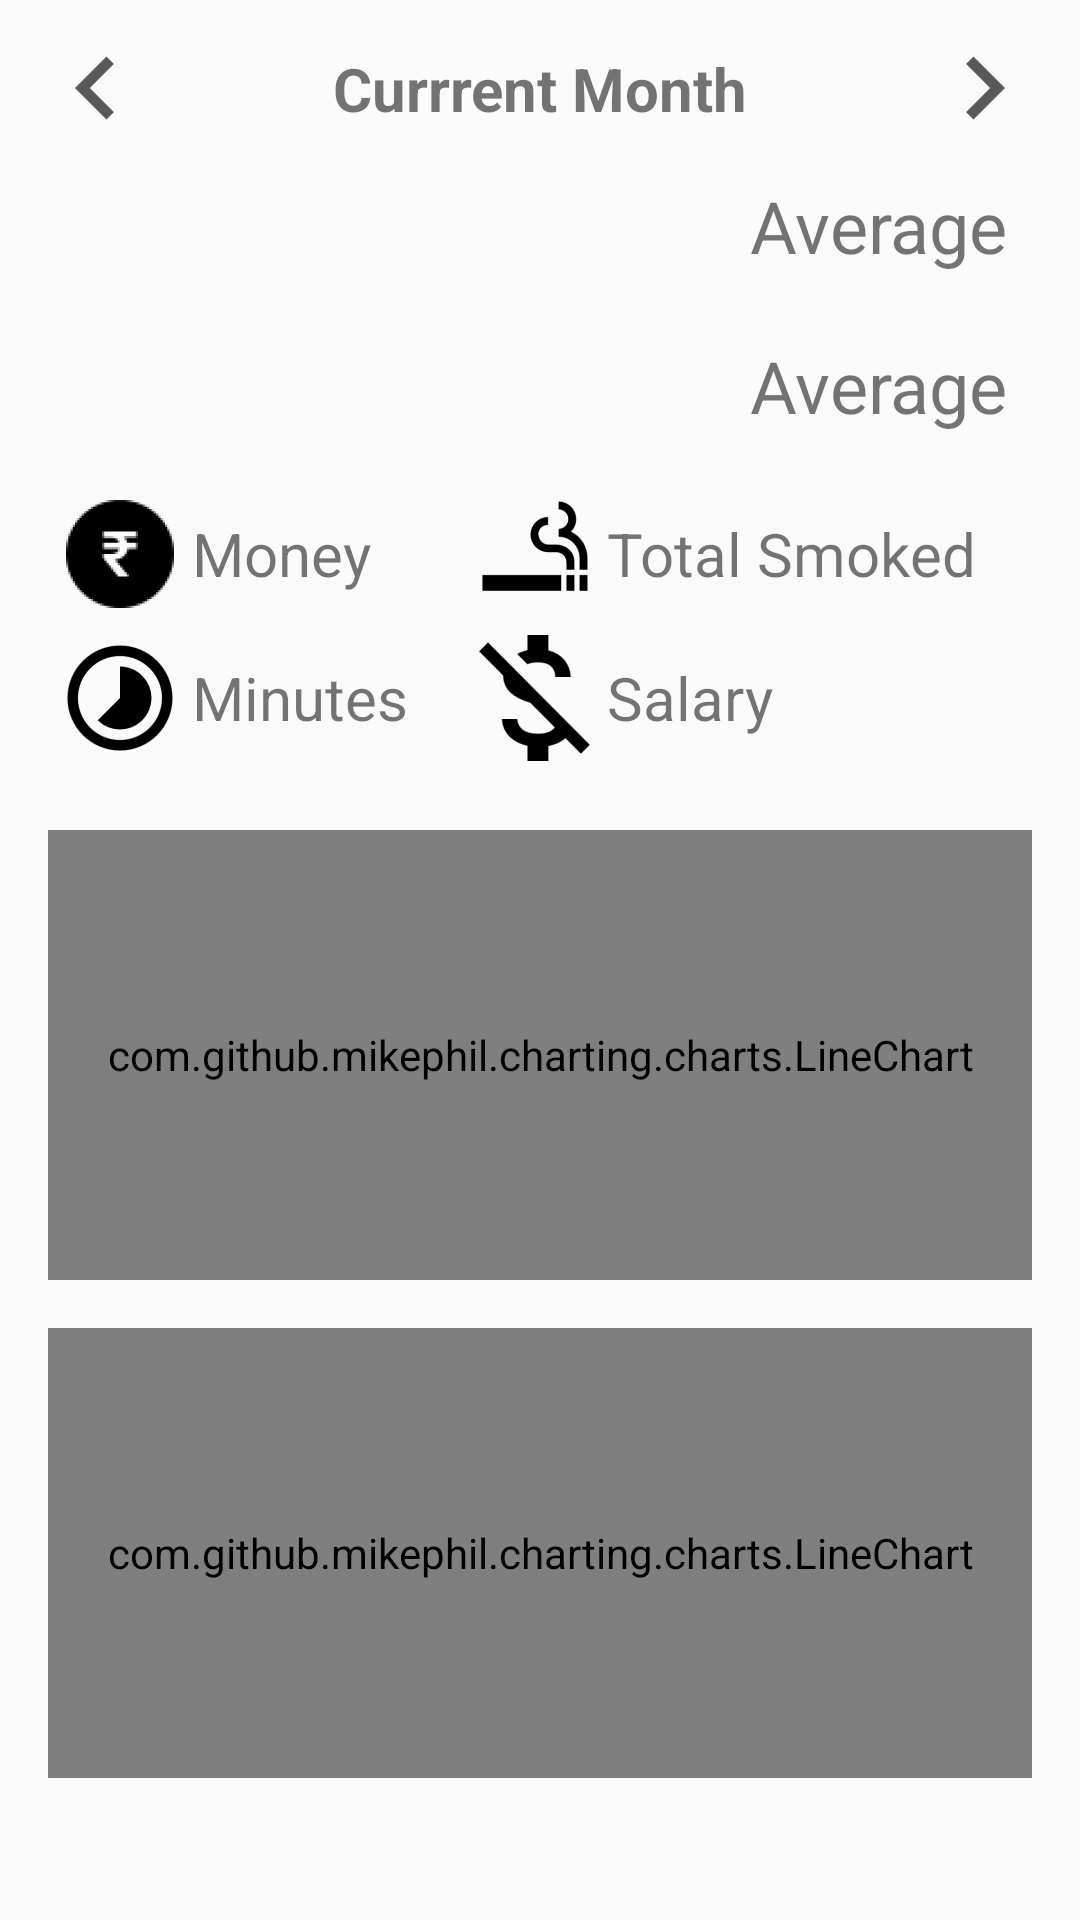

Screen size 1080×1920. Icon name, then its center in pixels as point (x, y):
chevron left: point (94, 88)
chevron right: point (985, 88)
currency: point (120, 554)
